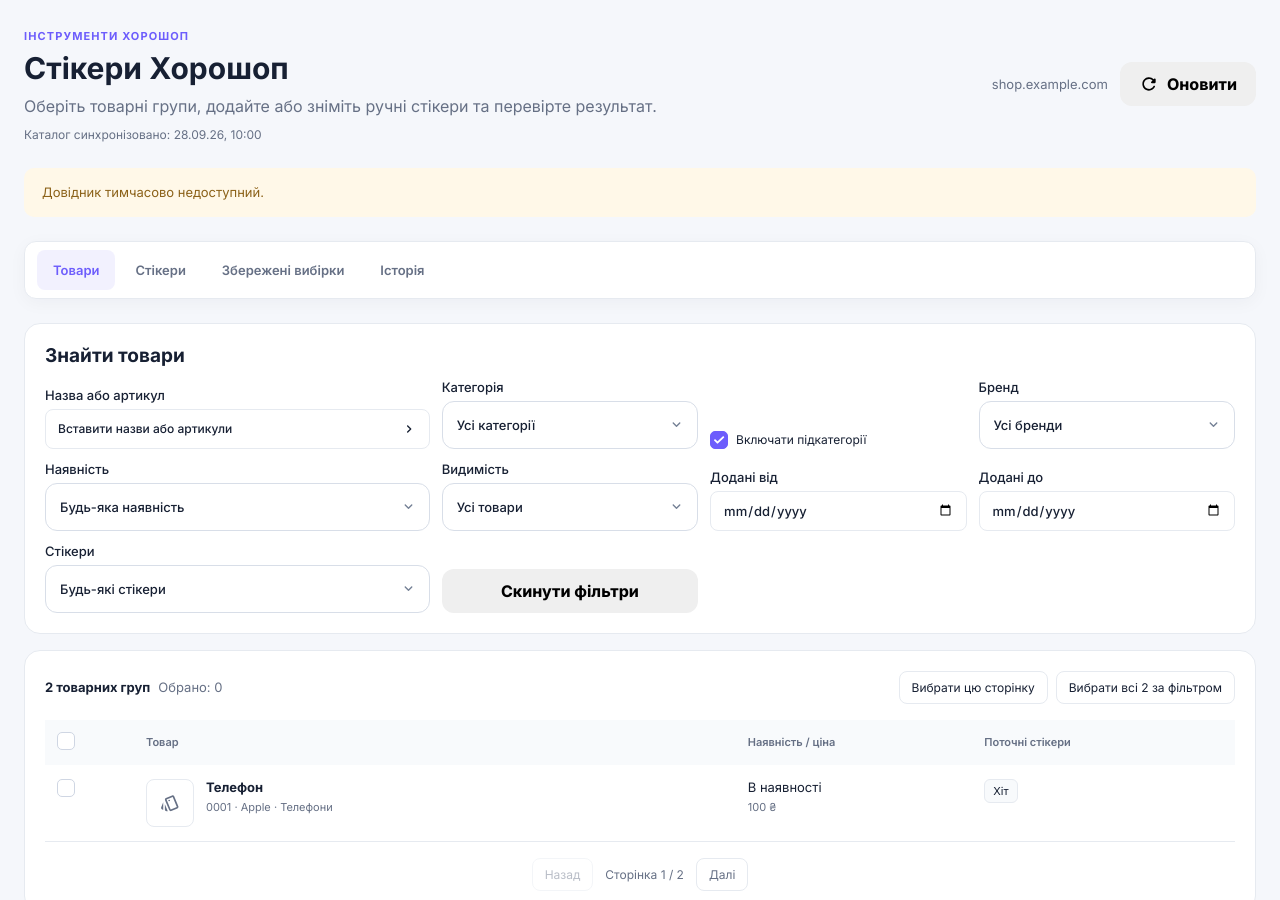
HoroshopStickersPage › refreshes an empty directory while the sticker filter is waiting for a choice
Expected: the checkbox named "Обрати 0001" is shown, [57,779,75,797]
Click the button "Будь-які стікери" at (113, 589), box [45,565,430,613]
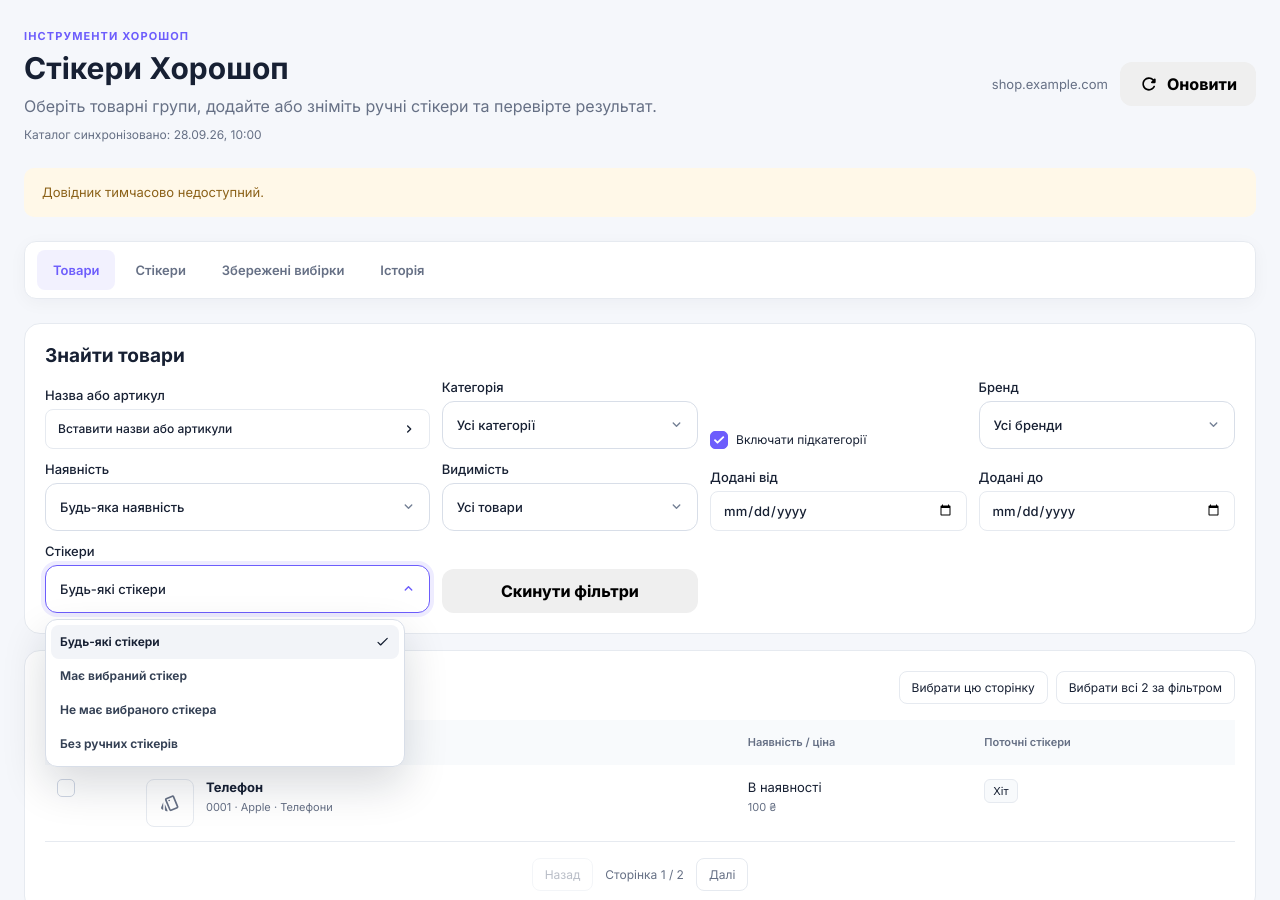
Click the option "Має вибраний стікер" at (123, 676), box [51,659,399,693]
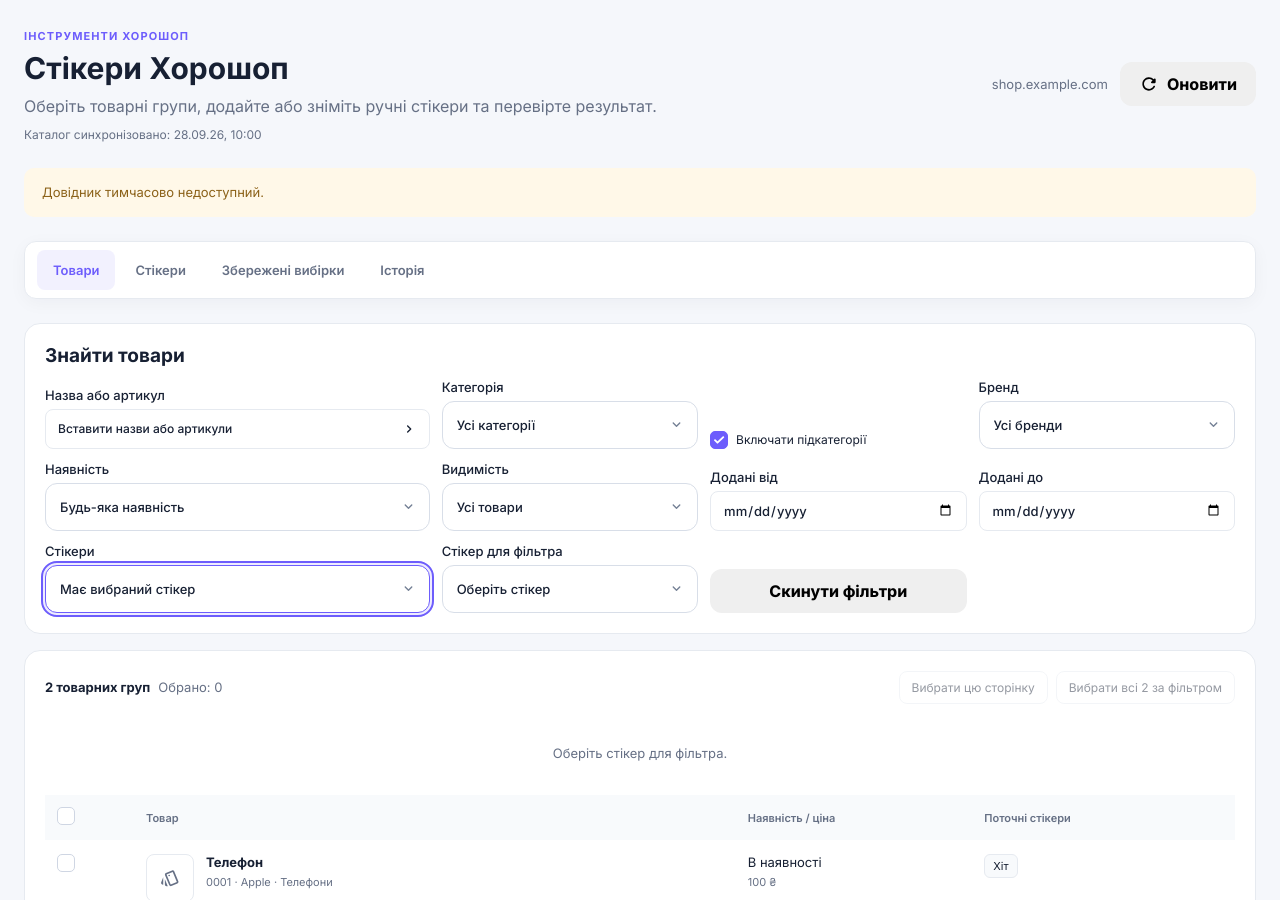
Click the button "Оновити" at (1188, 84), box [1120,62,1256,106]
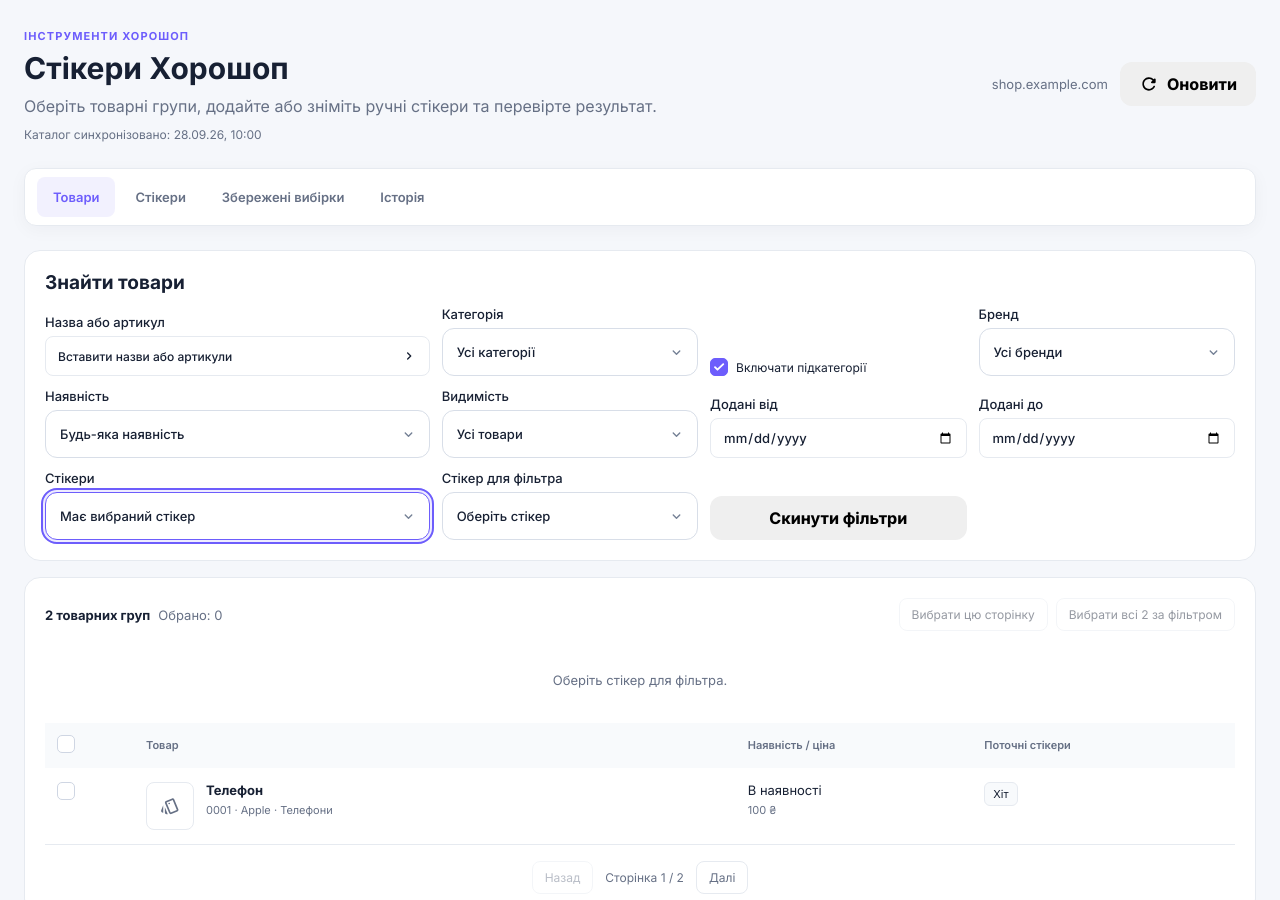
Expected: the text "Довідник тимчасово недоступний." is gone
Click the button with aria-label "Стікер для фільтра" at (570, 516), box [442,492,698,540]
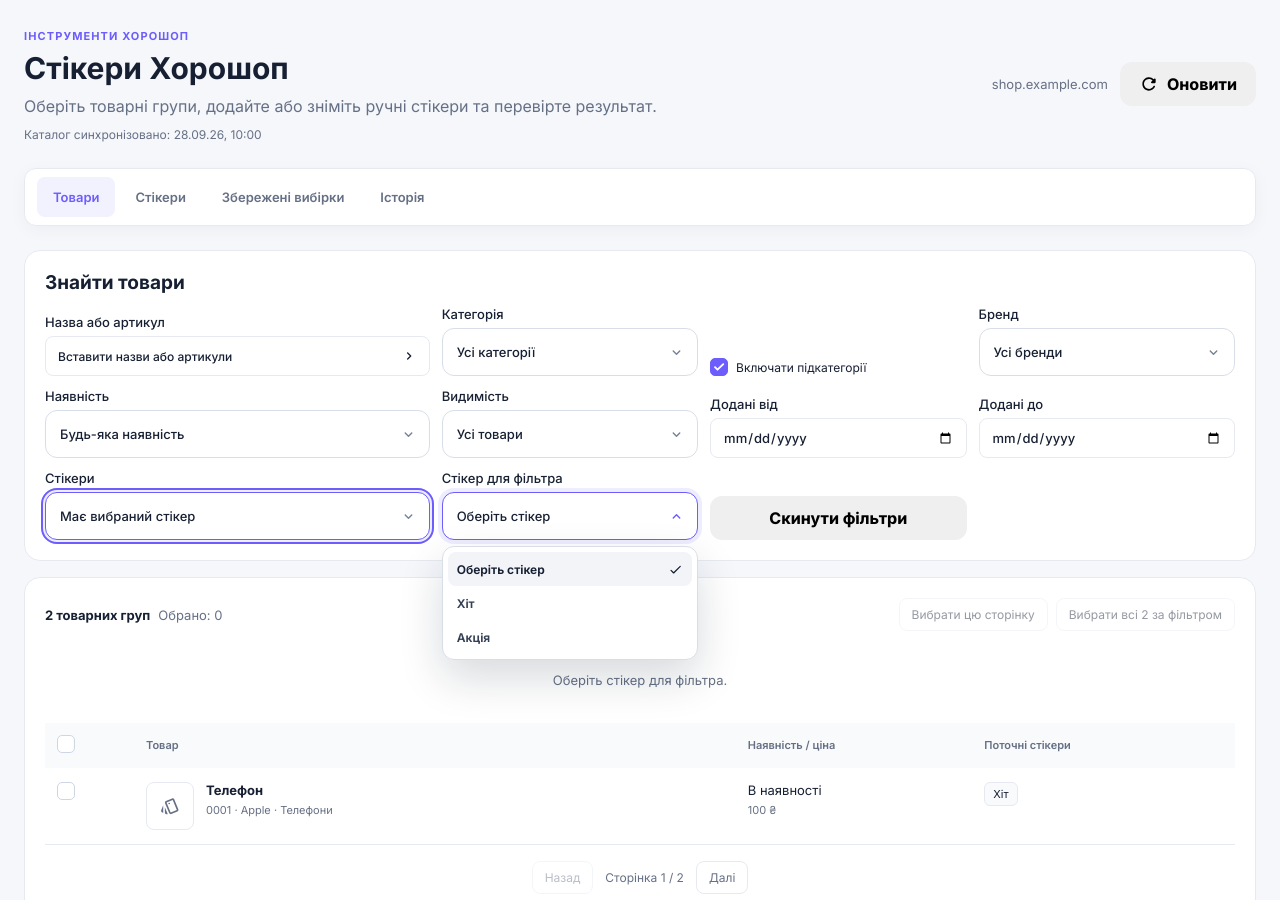
Expected: the checkbox named "Обрати 0001" is disabled, [57,782,75,800]
Expected: the option "Акція" is shown, [448,620,692,654]
